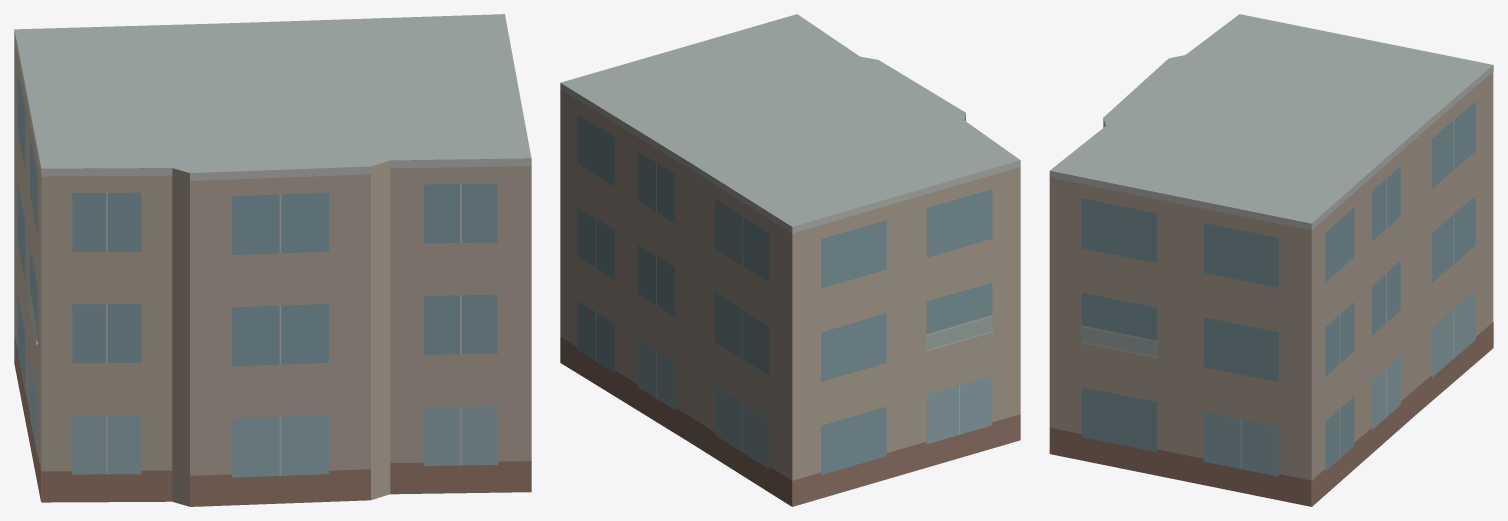
Rendered from survey-upis-32468083.glb.
3 views of the same model, side by side, from view 1: azimuth 30°, elevation 25°; view 2: azimuth 150°, elevation 25°; view 3: azimuth 270°, elevation 25° (orthographic). The views are drawn at different scales.
Parts seen in each view (by area): view 1: survey-upis-32468083.tmp; view 2: survey-upis-32468083.tmp; view 3: survey-upis-32468083.tmp.
Part boxes in pixels (x1,y1,x2,y2): survey-upis-32468083.tmp: [14, 14, 531, 506]; survey-upis-32468083.tmp: [560, 14, 1020, 506]; survey-upis-32468083.tmp: [1049, 14, 1493, 506].
Bounding box in the file's own units: 16.52 × 10.4 × 14.78.
